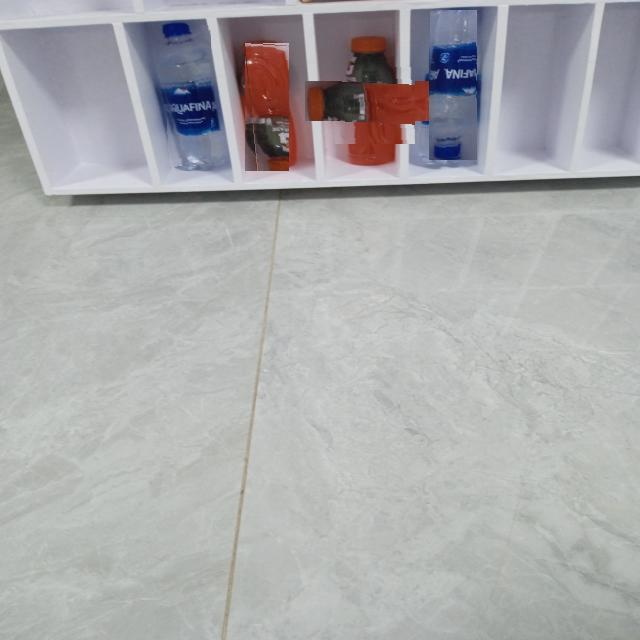Plastic: (328, 57, 415, 144), (429, 10, 477, 160), (161, 25, 211, 167), (244, 42, 289, 171)
